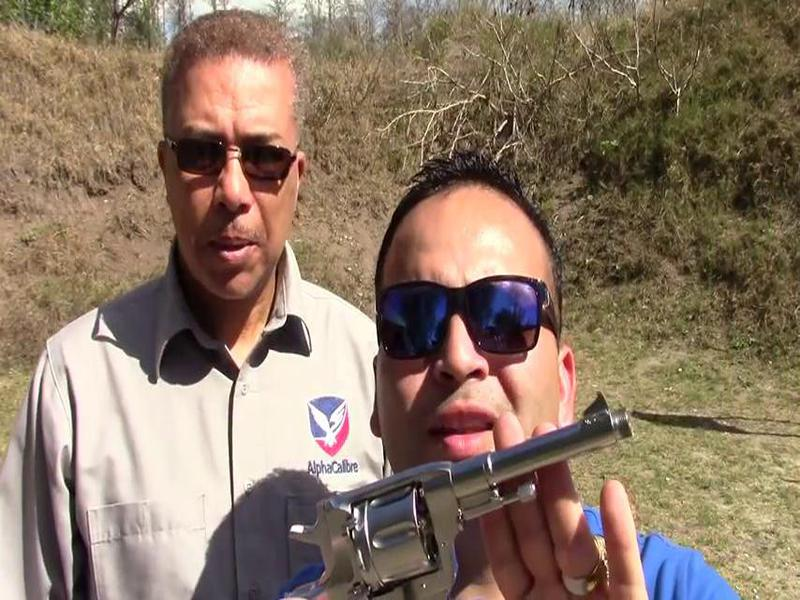Revolver: (240, 392, 642, 600)
